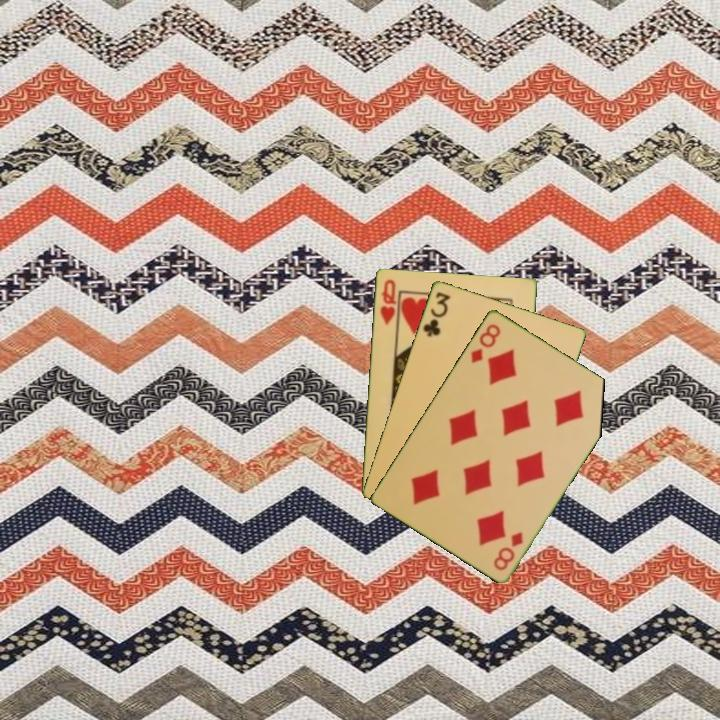3c: (419, 288, 453, 339)
8d: (467, 320, 503, 366), (490, 527, 526, 573)
Qh: (376, 276, 399, 328)
